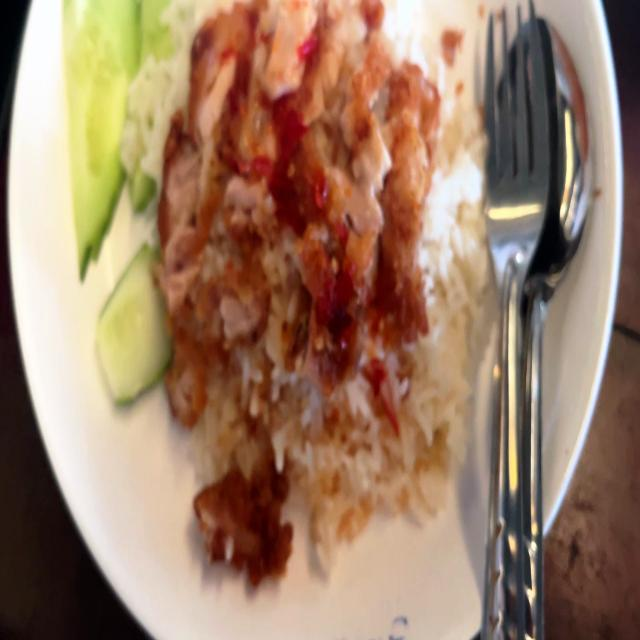chicken_rice: (56, 0, 492, 582)
cucumber: (61, 0, 181, 285), (95, 240, 178, 412)
fried_chicken: (168, 0, 424, 390), (189, 452, 306, 600)
